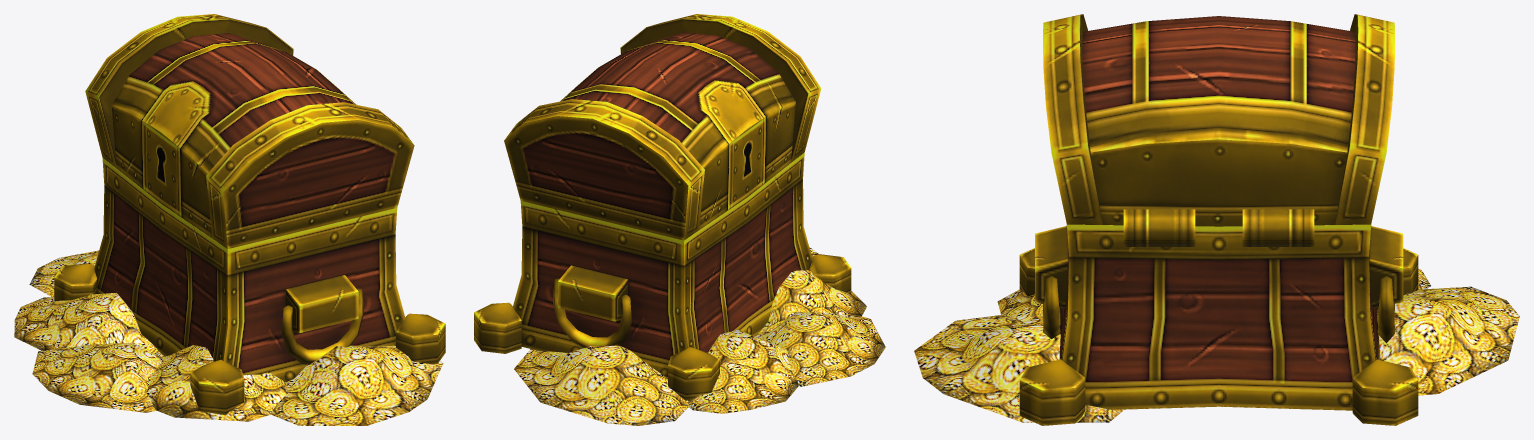
File: coffer.fbx
The picture shows the model from 3 angles, left to right: view 1: azimuth 30°, elevation 25°; view 2: azimuth 150°, elevation 25°; view 3: azimuth 270°, elevation 25°; orthographic projection. The views are drawn at different scales.
Visible parts, largest first — view 1: CofferTop1, CofferBase01, Treasure2; view 2: CofferTop1, CofferBase01, Treasure2; view 3: CofferBase01, CofferTop1, Treasure2.
Part boxes in pixels (box(x1,y1,x2,y2)): CofferTop1: box(85, 14, 414, 248); CofferBase01: box(54, 158, 445, 415); Treasure2: box(14, 250, 443, 425); CofferTop1: box(504, 14, 821, 240); CofferBase01: box(474, 152, 851, 400); Treasure2: box(514, 247, 885, 425); CofferBase01: box(1019, 209, 1418, 425); CofferTop1: box(1043, 14, 1394, 226); Treasure2: box(914, 269, 1519, 422).
Bounding box in the file's own units: 27.88 × 21.56 × 36.07.
